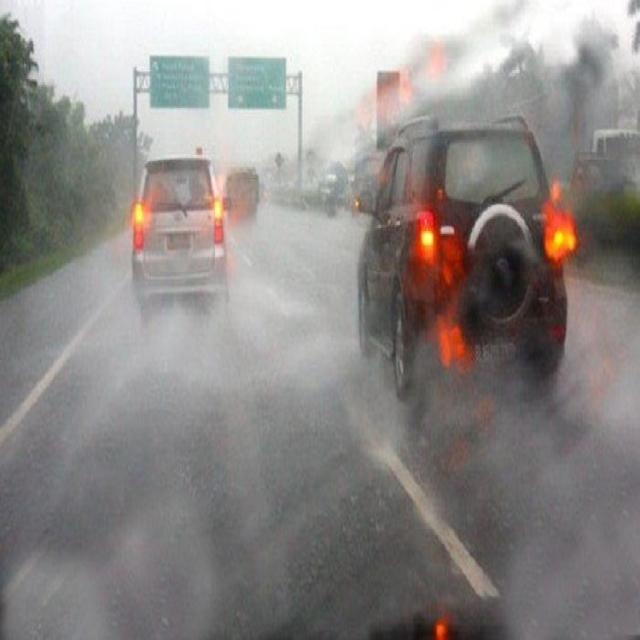Car: (350, 113, 574, 409), (130, 152, 231, 321)
